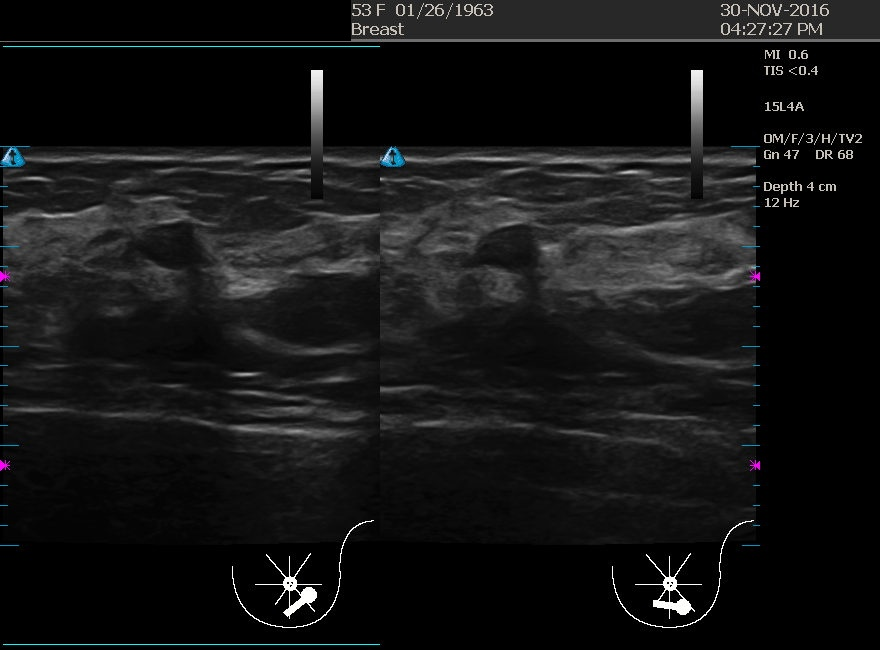BIRADS_2: (70, 166, 262, 358), (403, 171, 595, 363)
